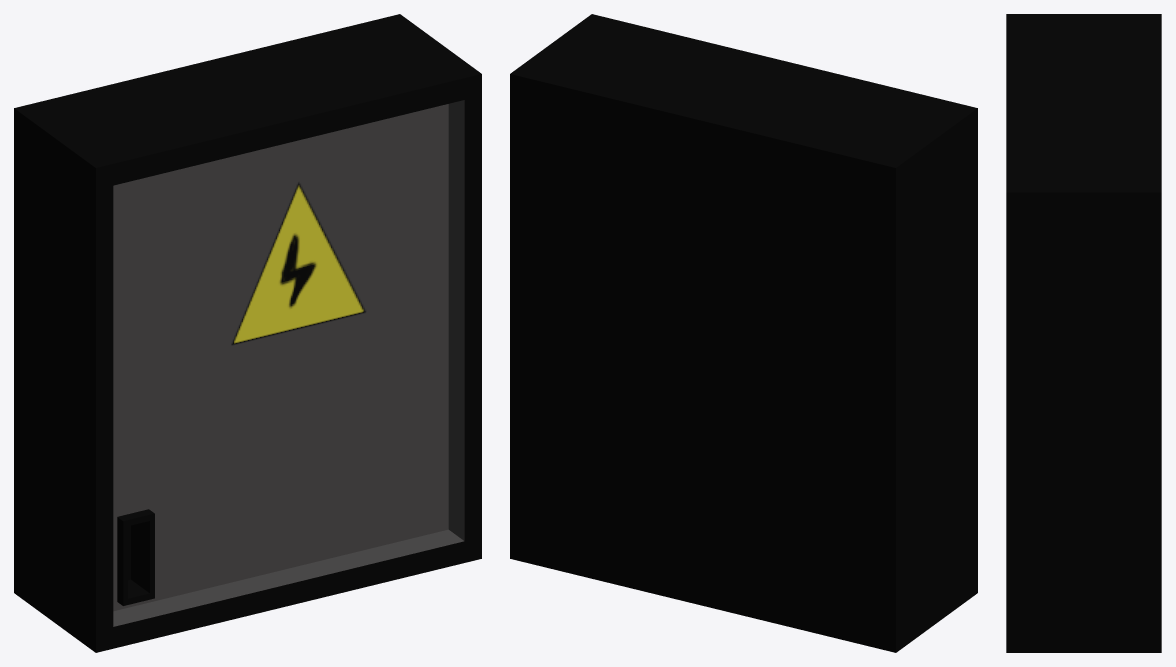
File: CalibrateDistributor.fbx
The picture shows the model from 3 angles, left to right: view 1: azimuth 30°, elevation 25°; view 2: azimuth 150°, elevation 25°; view 3: azimuth 270°, elevation 25°; orthographic projection. The views are drawn at different scales.
Visible parts, largest first — view 1: Cube; view 2: Cube; view 3: Cube.
Boxes of the visible parts, x1,y1,x2,y2 form: Cube: (14,14,481,652); Cube: (510,14,977,652); Cube: (1006,14,1161,652).
Size of the model in its own units: 236 by 283 by 86.71.
